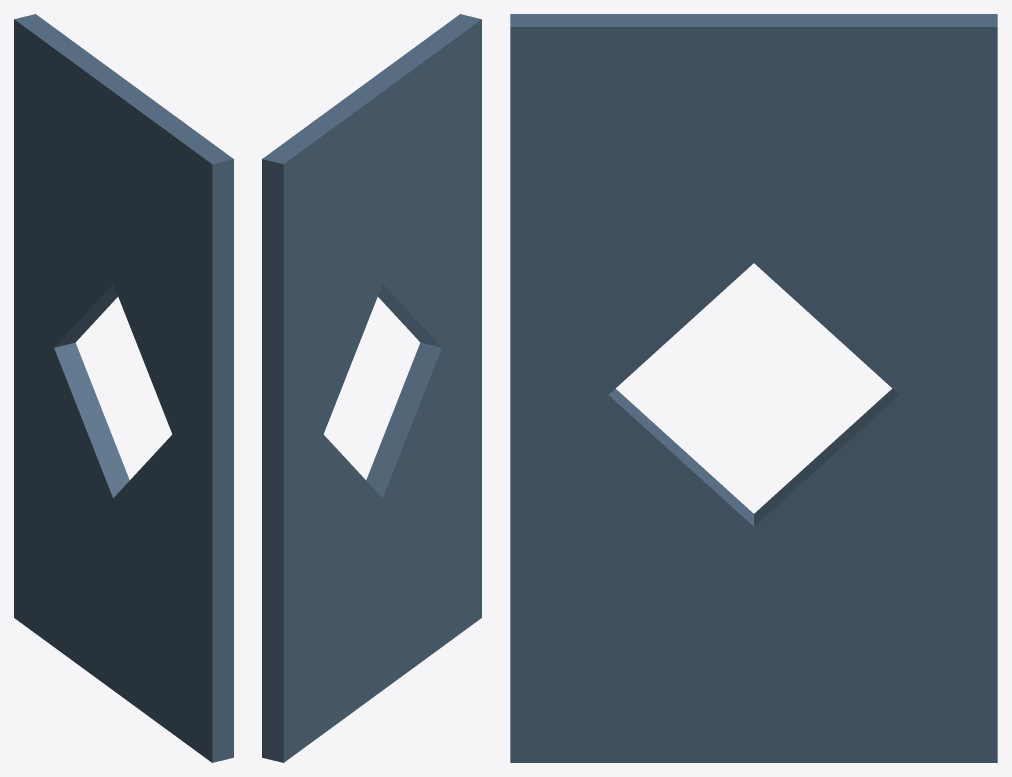
Rendered from Door.FBX.
3 views of the same model, side by side, from view 1: azimuth 30°, elevation 25°; view 2: azimuth 150°, elevation 25°; view 3: azimuth 270°, elevation 25° (orthographic). The views are drawn at different scales.
Parts seen in each view (by area): view 1: Door; view 2: Door; view 3: Door.
Boxes of the visible parts, x1,y1,x2,y2 form: Door: (14,14,233,762); Door: (262,14,481,762); Door: (510,14,997,762).
Bounding box in the file's own units: 2.97 × 78.74 × 47.24.
